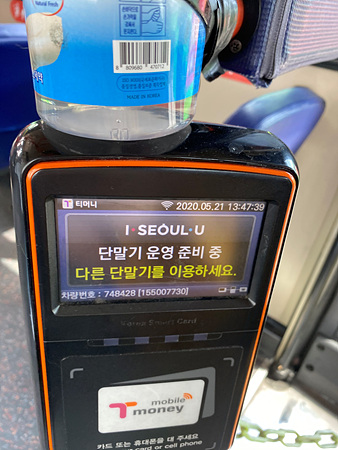terminal: (14, 117, 293, 444)
